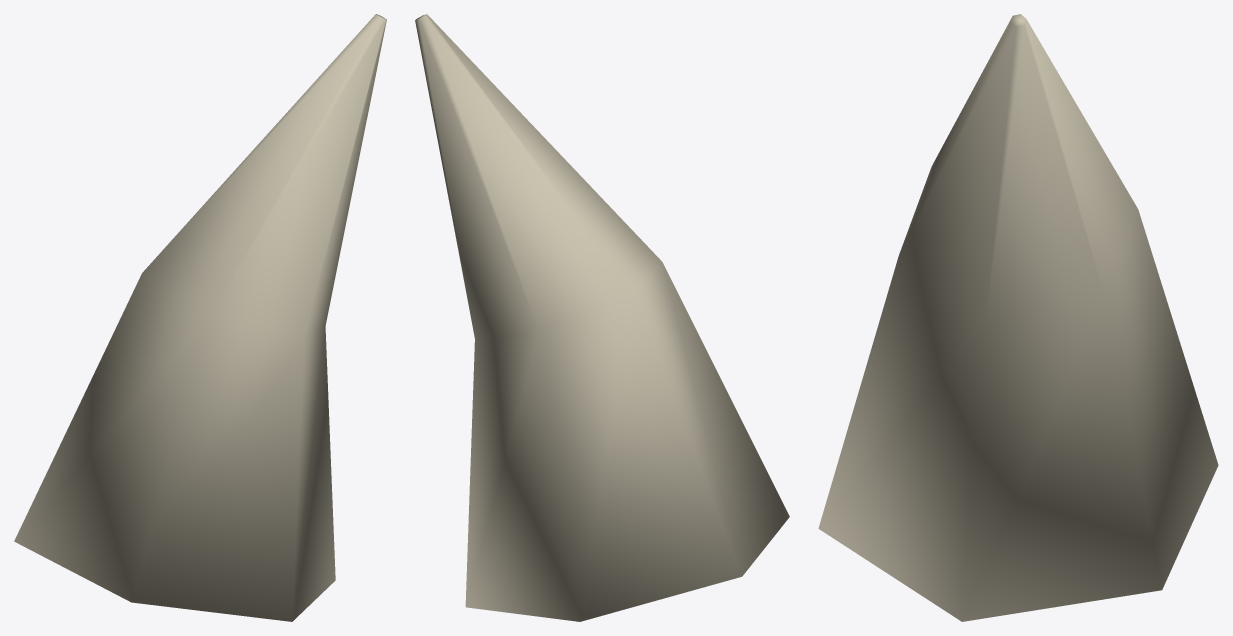
Rendered from worm_tooth.glb.
The picture shows the model from 3 angles, left to right: view 1: azimuth 30°, elevation 25°; view 2: azimuth 150°, elevation 25°; view 3: azimuth 270°, elevation 25°; orthographic projection. The views are drawn at different scales.
Parts seen in each view (by area): view 1: worm_tooth_v0; view 2: worm_tooth_v0; view 3: worm_tooth_v0.
Boxes of the visible parts, left/top/right/bottom form: worm_tooth_v0: left=14, top=14, right=386, bottom=621; worm_tooth_v0: left=415, top=14, right=789, bottom=621; worm_tooth_v0: left=818, top=14, right=1218, bottom=621.
Size of the model in its own units: 0.1183 by 0.1727 by 0.097.
